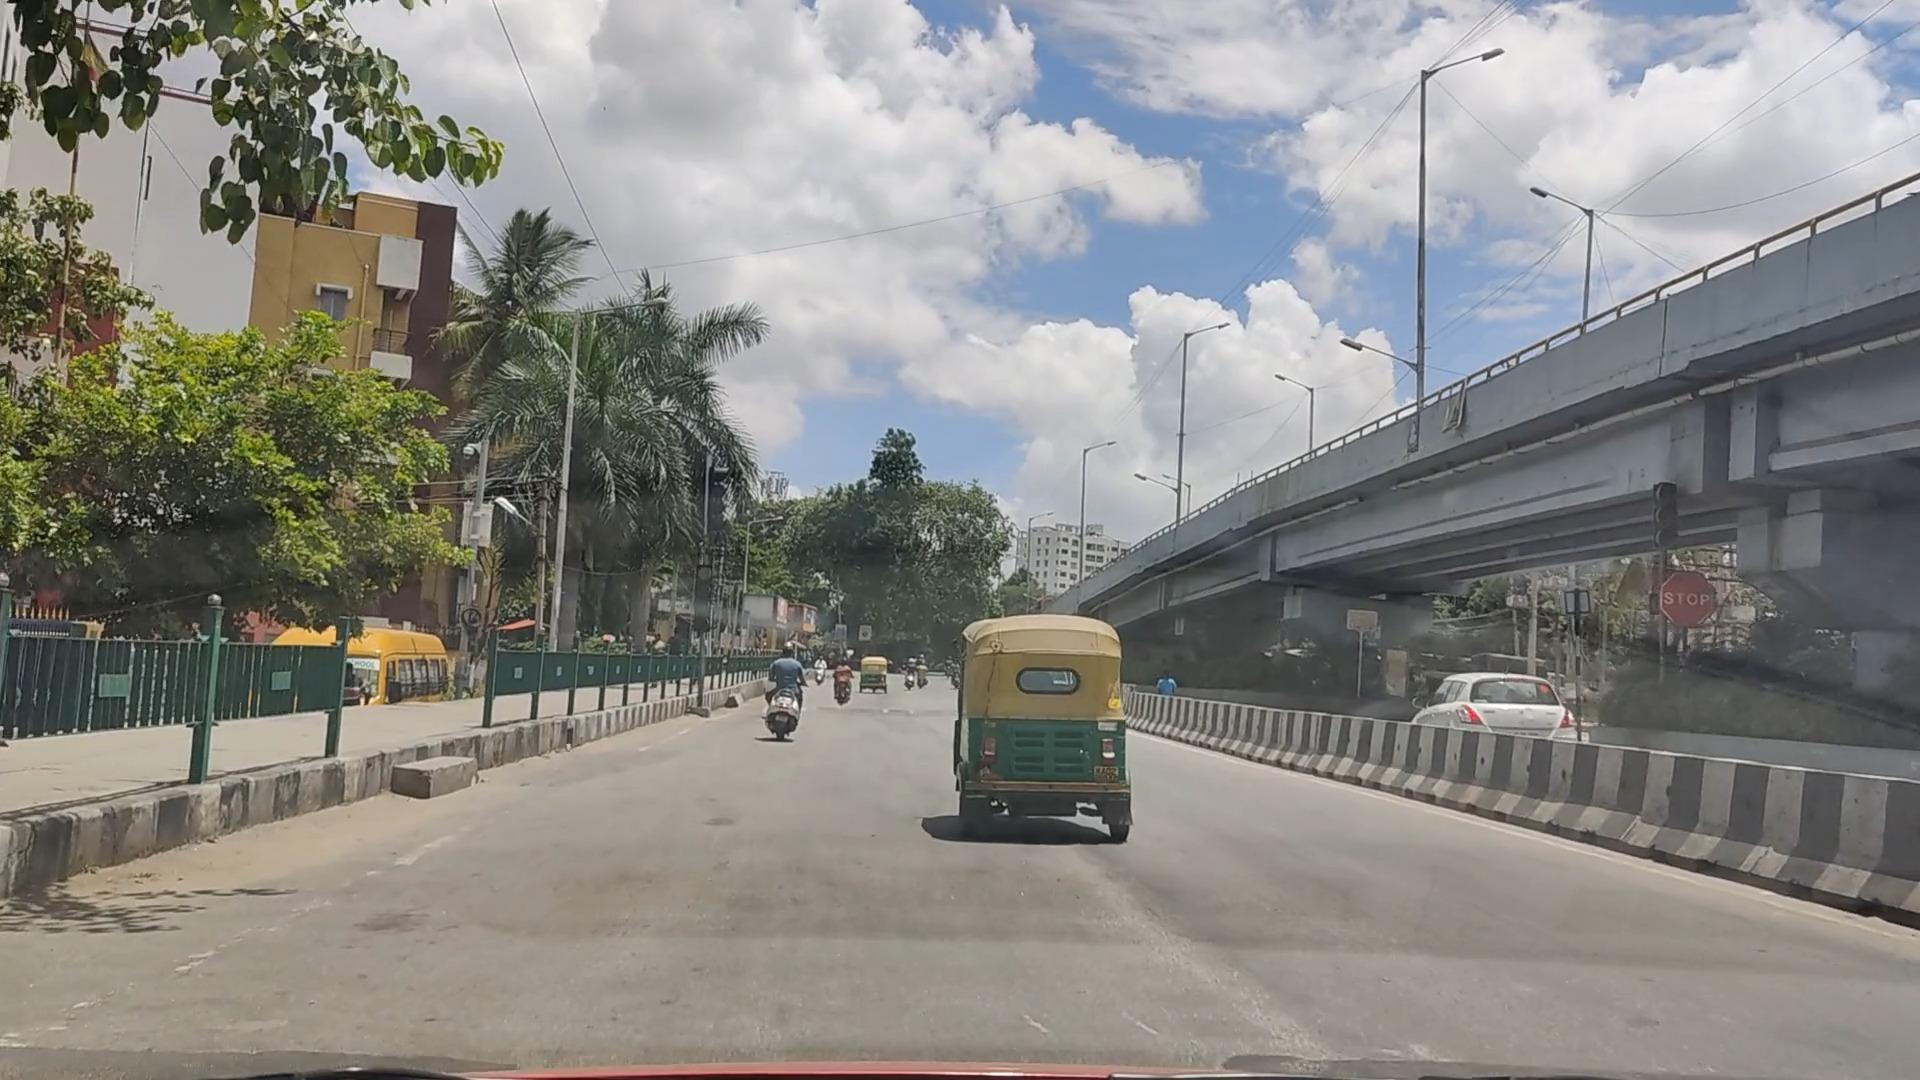LMV: (953, 612, 1125, 833)
RoadDamages: (972, 948, 1344, 1065)
